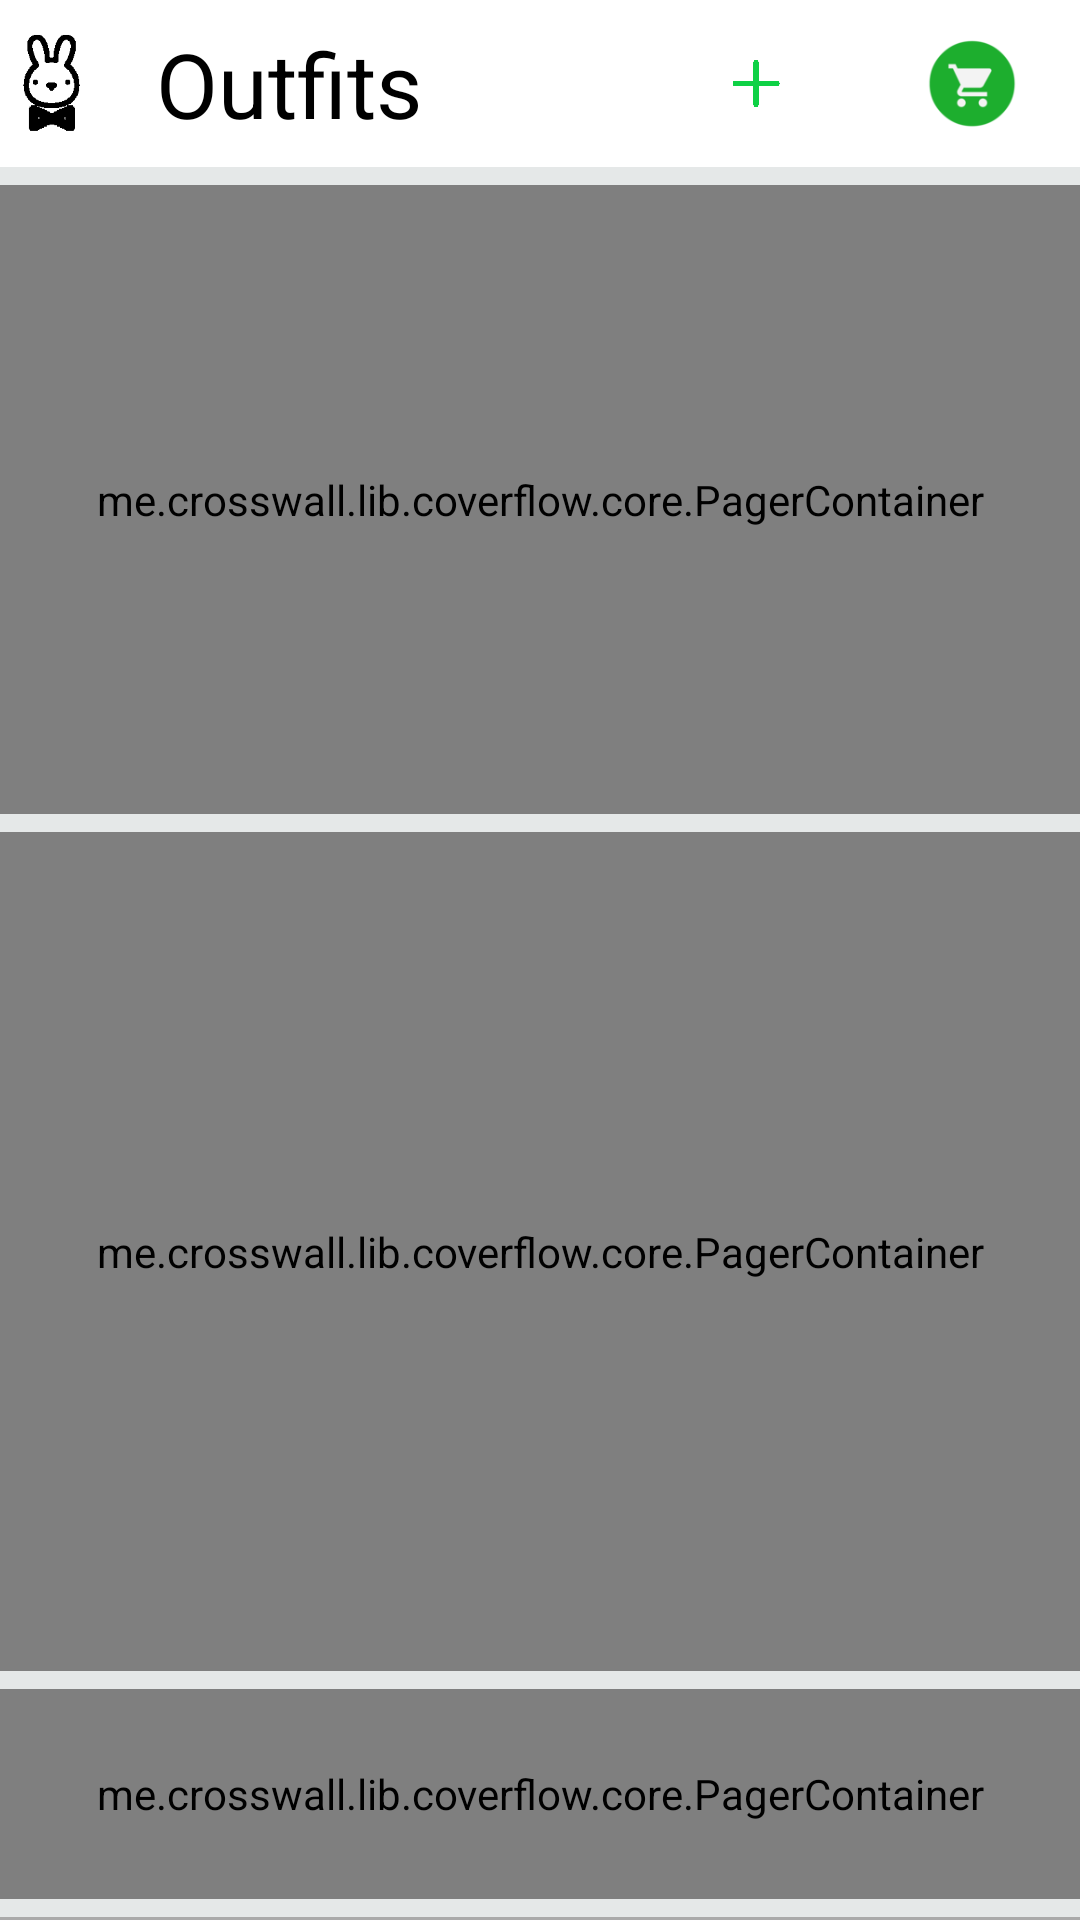

Icons on this 1080 x 1920 Android screen, each with its box as (x1, y1, x2, y2):
add: (733, 60, 780, 107)
store: (929, 40, 1015, 127)
